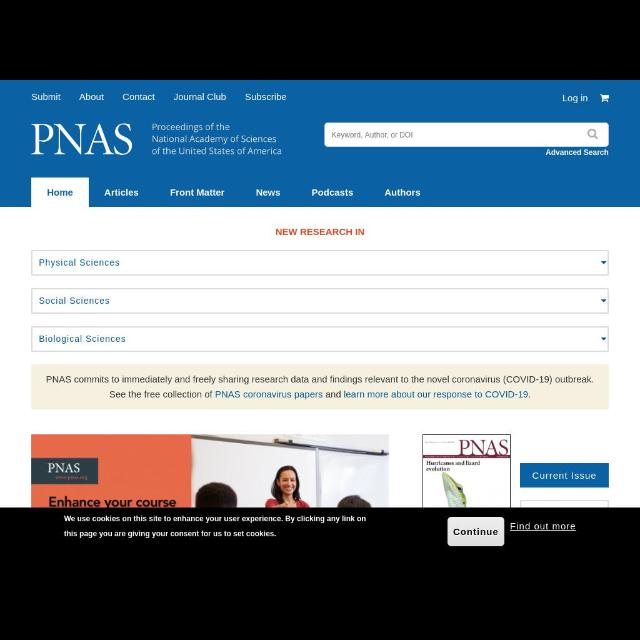icon: (596, 90, 612, 104), (598, 257, 608, 267), (586, 130, 598, 138), (599, 333, 609, 339), (599, 296, 607, 302)
iframe: (1, 509, 639, 559)
image: (32, 434, 610, 506), (26, 120, 134, 160)
input: (324, 123, 610, 149)
spinner: (34, 248, 608, 276), (32, 326, 608, 352), (32, 290, 608, 312)
text: (46, 374, 594, 400), (150, 120, 282, 158), (38, 332, 126, 344), (273, 226, 367, 237), (37, 256, 119, 268), (38, 296, 112, 306), (329, 132, 419, 140), (170, 188, 224, 200), (173, 91, 227, 102), (102, 184, 138, 200), (244, 91, 288, 103), (545, 148, 611, 156), (382, 187, 423, 199), (44, 184, 74, 200), (309, 188, 355, 198), (28, 90, 64, 102), (120, 92, 158, 102), (255, 186, 282, 200), (562, 92, 588, 105), (77, 92, 106, 102)
toolbar: (1, 80, 639, 206)
